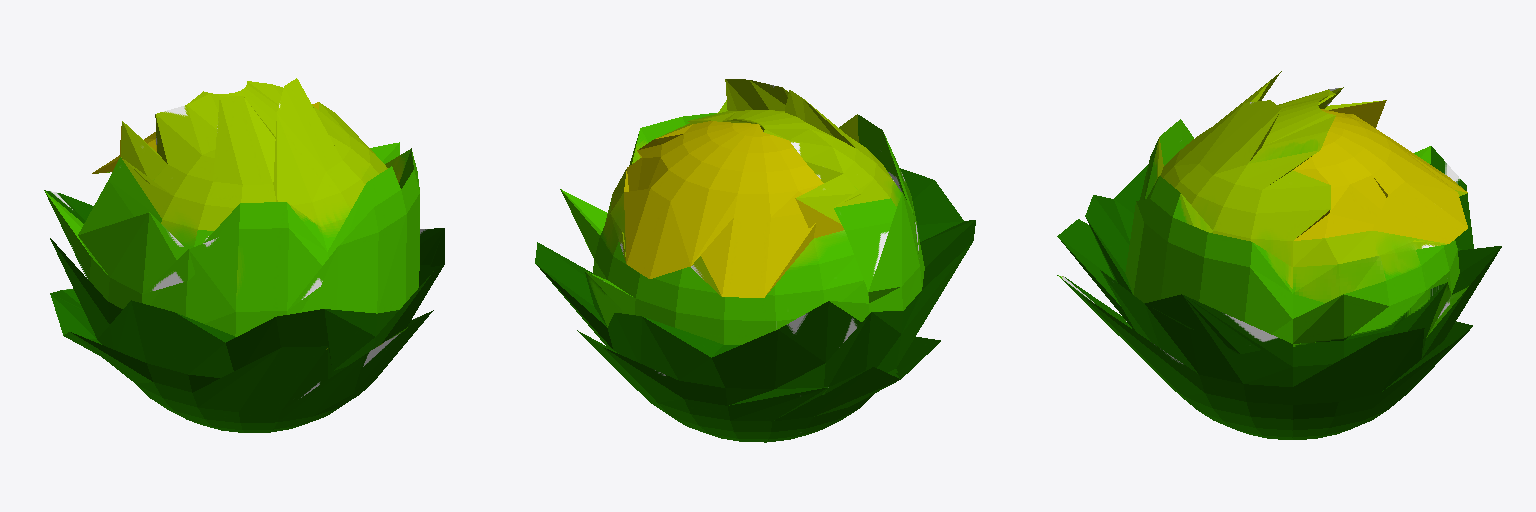
3 views of the same model, side by side, from view 1: azimuth 30°, elevation 25°; view 2: azimuth 150°, elevation 25°; view 3: azimuth 270°, elevation 25° (orthographic).
Parts seen in each view (by area): view 1: pSphere1; view 2: pSphere1; view 3: pSphere1.
Part boxes in pixels (x1,y1,x2,y2): pSphere1: (44,78,444,432); pSphere1: (535,79,975,442); pSphere1: (1057,71,1501,439).
Bounding box in the file's own units: 3.67 × 3.25 × 3.92.
1 materials, 1 textured.